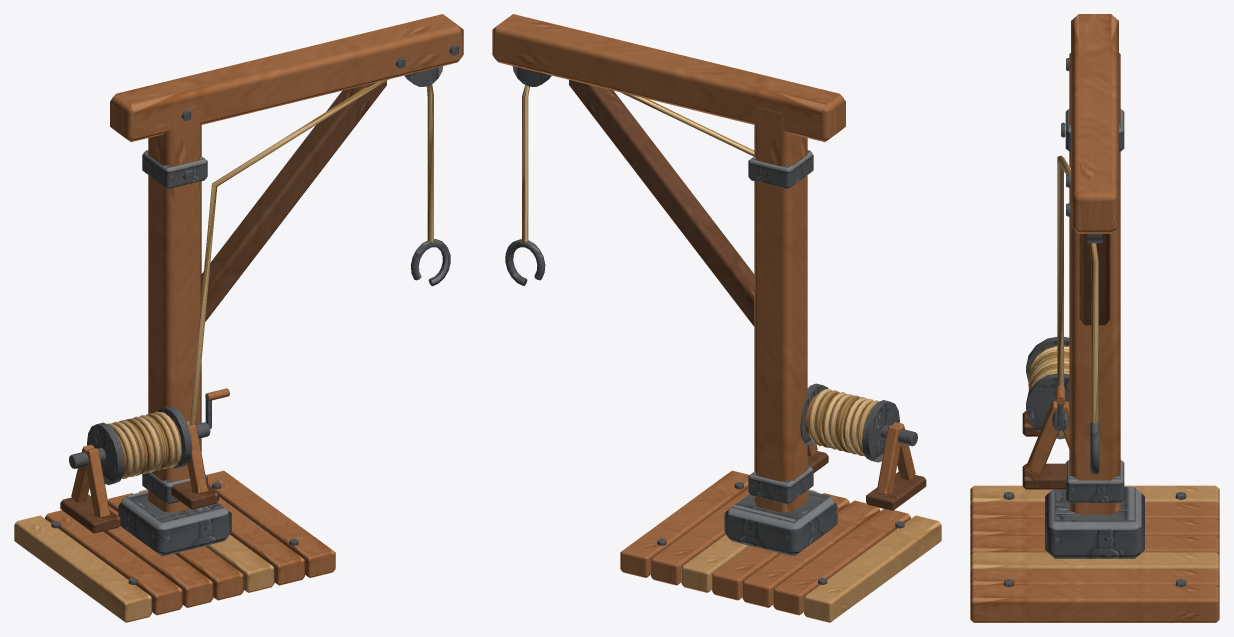
File: SM_LoadingCrane.glb
3 views of the same model, side by side, from view 1: azimuth 30°, elevation 25°; view 2: azimuth 150°, elevation 25°; view 3: azimuth 270°, elevation 25° (orthographic). The views are drawn at different scales.
Parts seen in each view (by area): view 1: SM_LoadingCrane; view 2: SM_LoadingCrane; view 3: SM_LoadingCrane.
Boxes of the visible parts, left/top/right/bottom form: SM_LoadingCrane: left=14, top=14, right=463, bottom=622; SM_LoadingCrane: left=492, top=14, right=941, bottom=622; SM_LoadingCrane: left=970, top=14, right=1219, bottom=622.
Bounding box in the file's own units: 2.98 × 3.37 × 1.45.
Materials: 1 (1 with a texture image).
